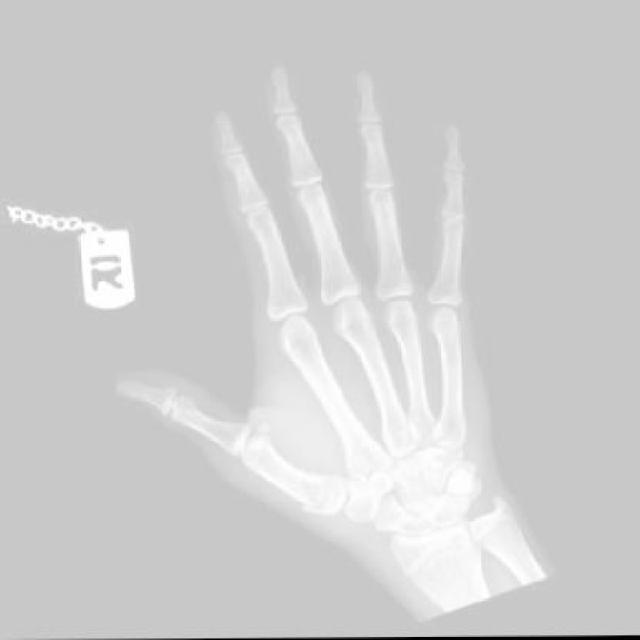Fracture: (277, 471, 351, 533)
